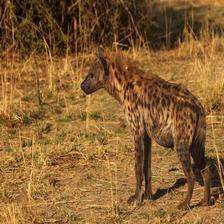hyena: (79, 48, 218, 218)
